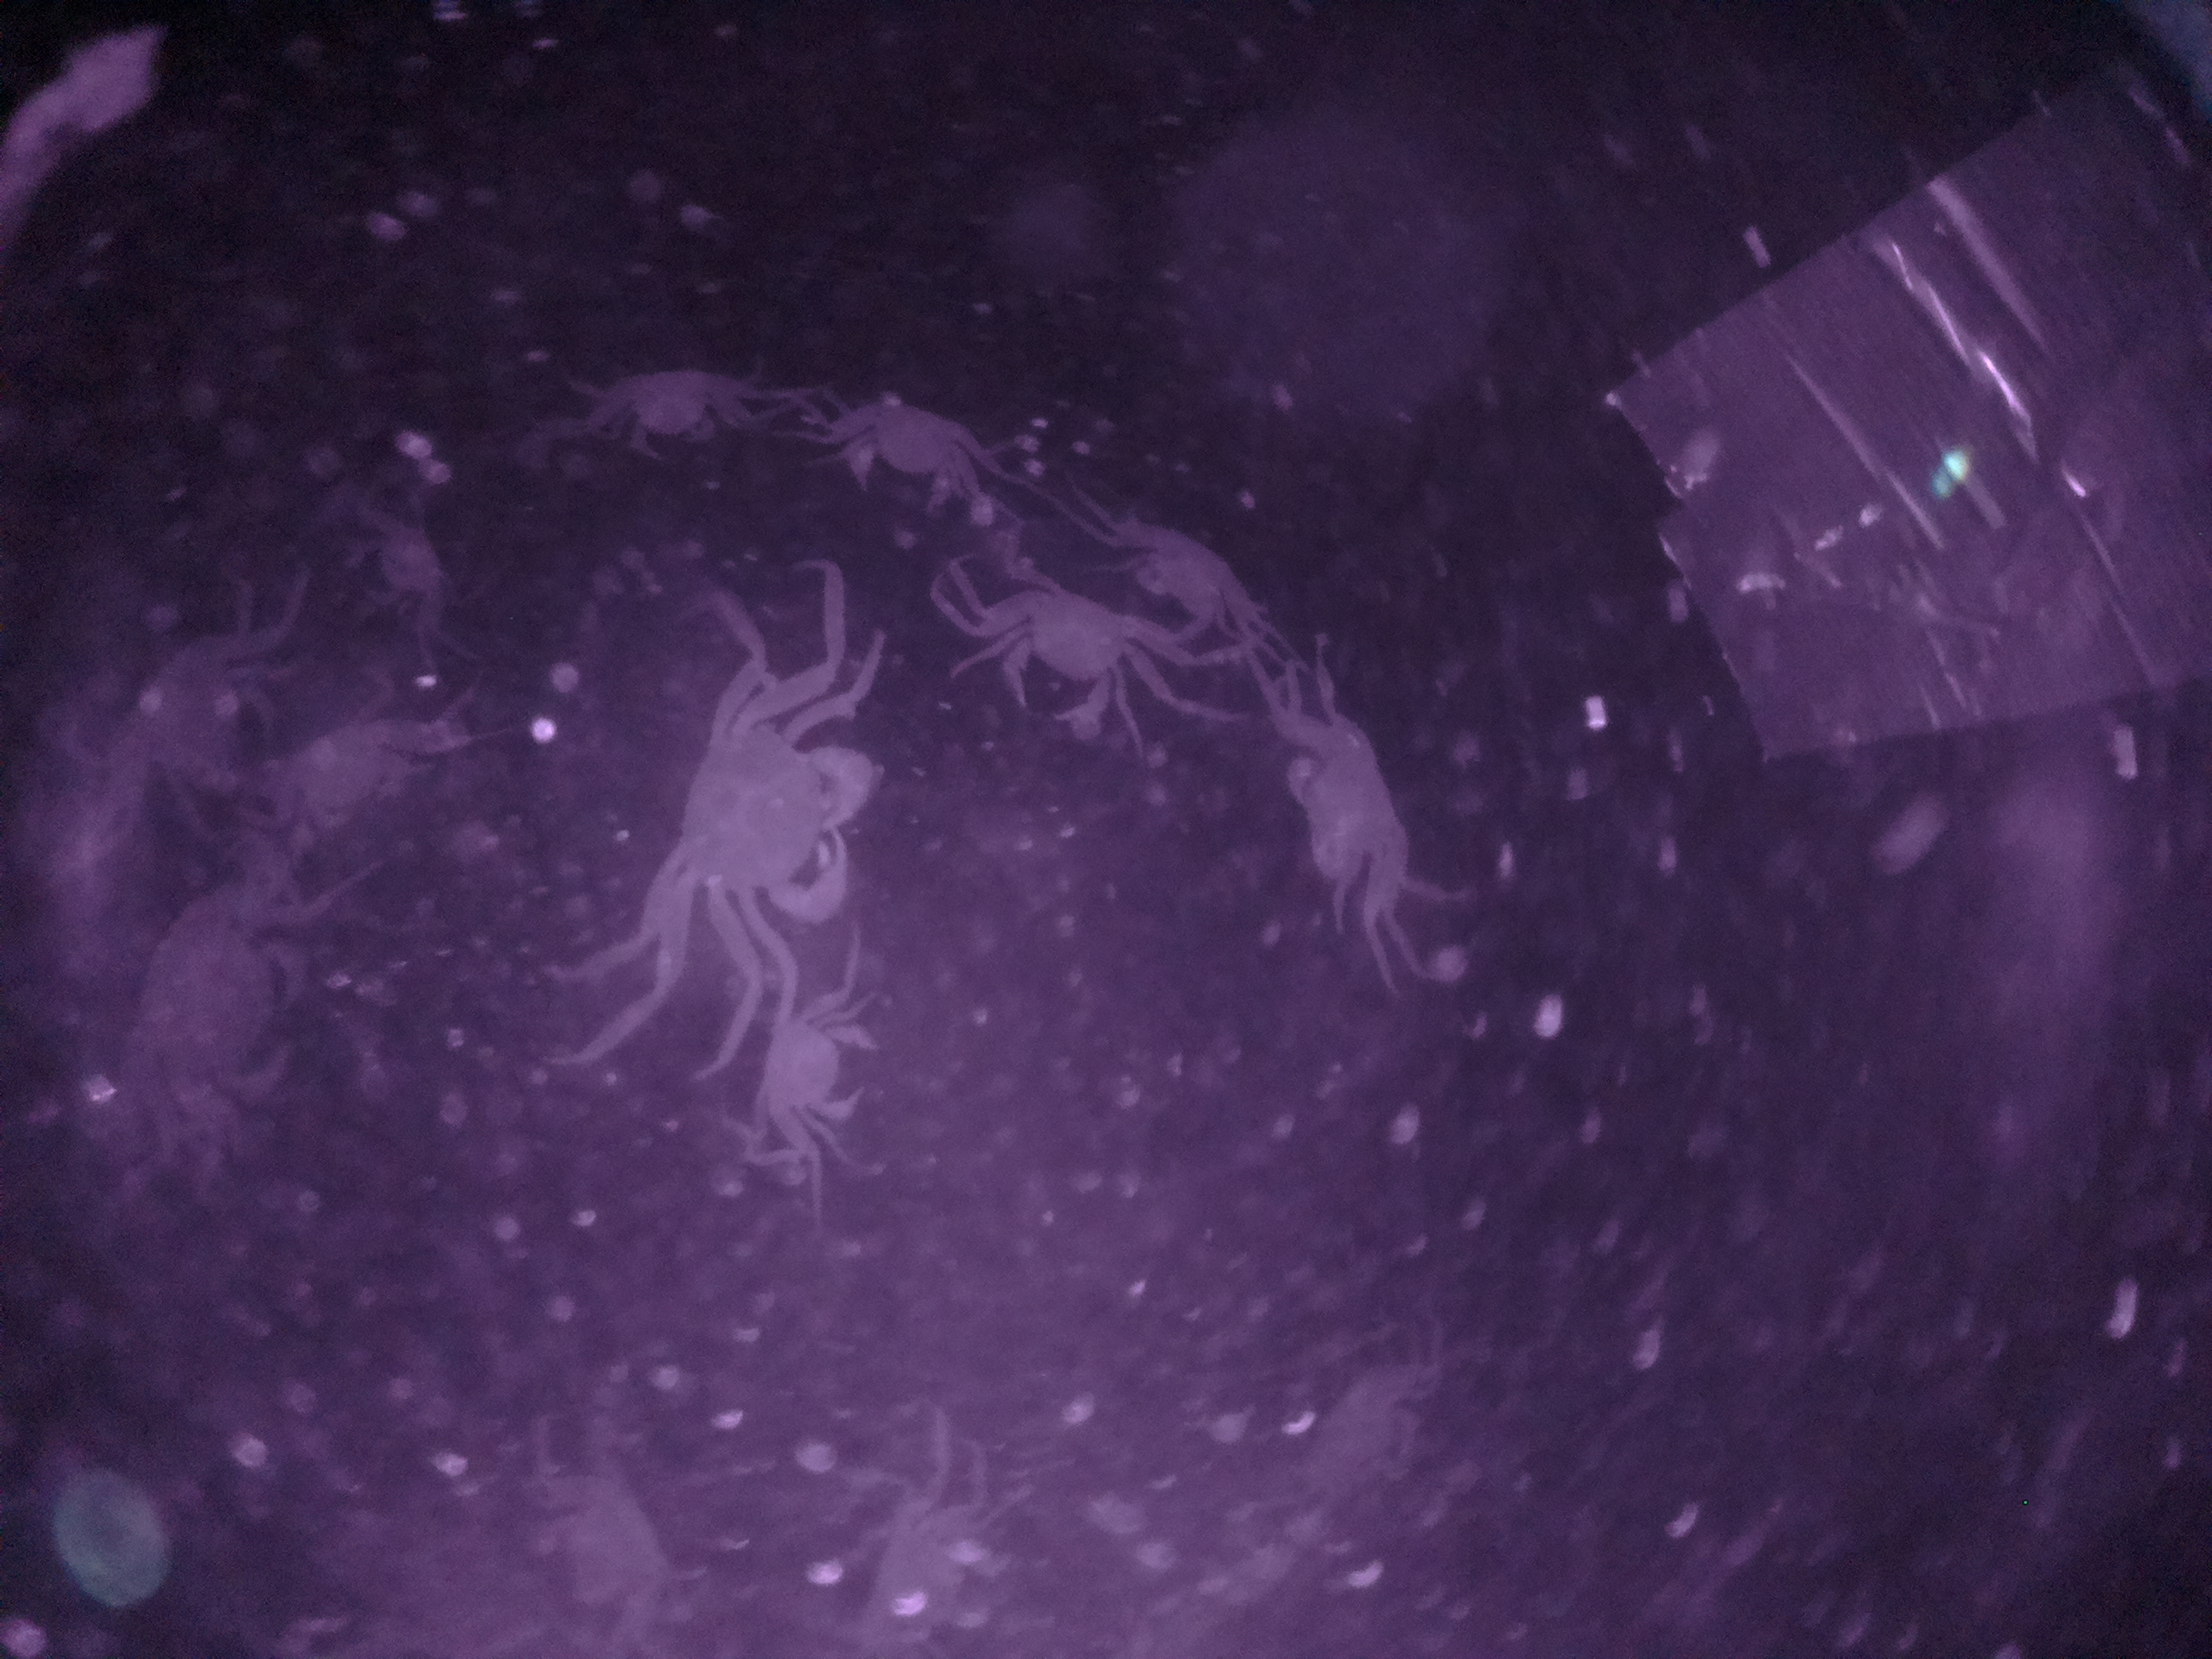Crab: (620, 694, 892, 924), (1275, 711, 1453, 897), (975, 582, 1165, 737), (1087, 502, 1270, 648), (817, 390, 993, 518), (737, 990, 892, 1133), (575, 354, 756, 465)
